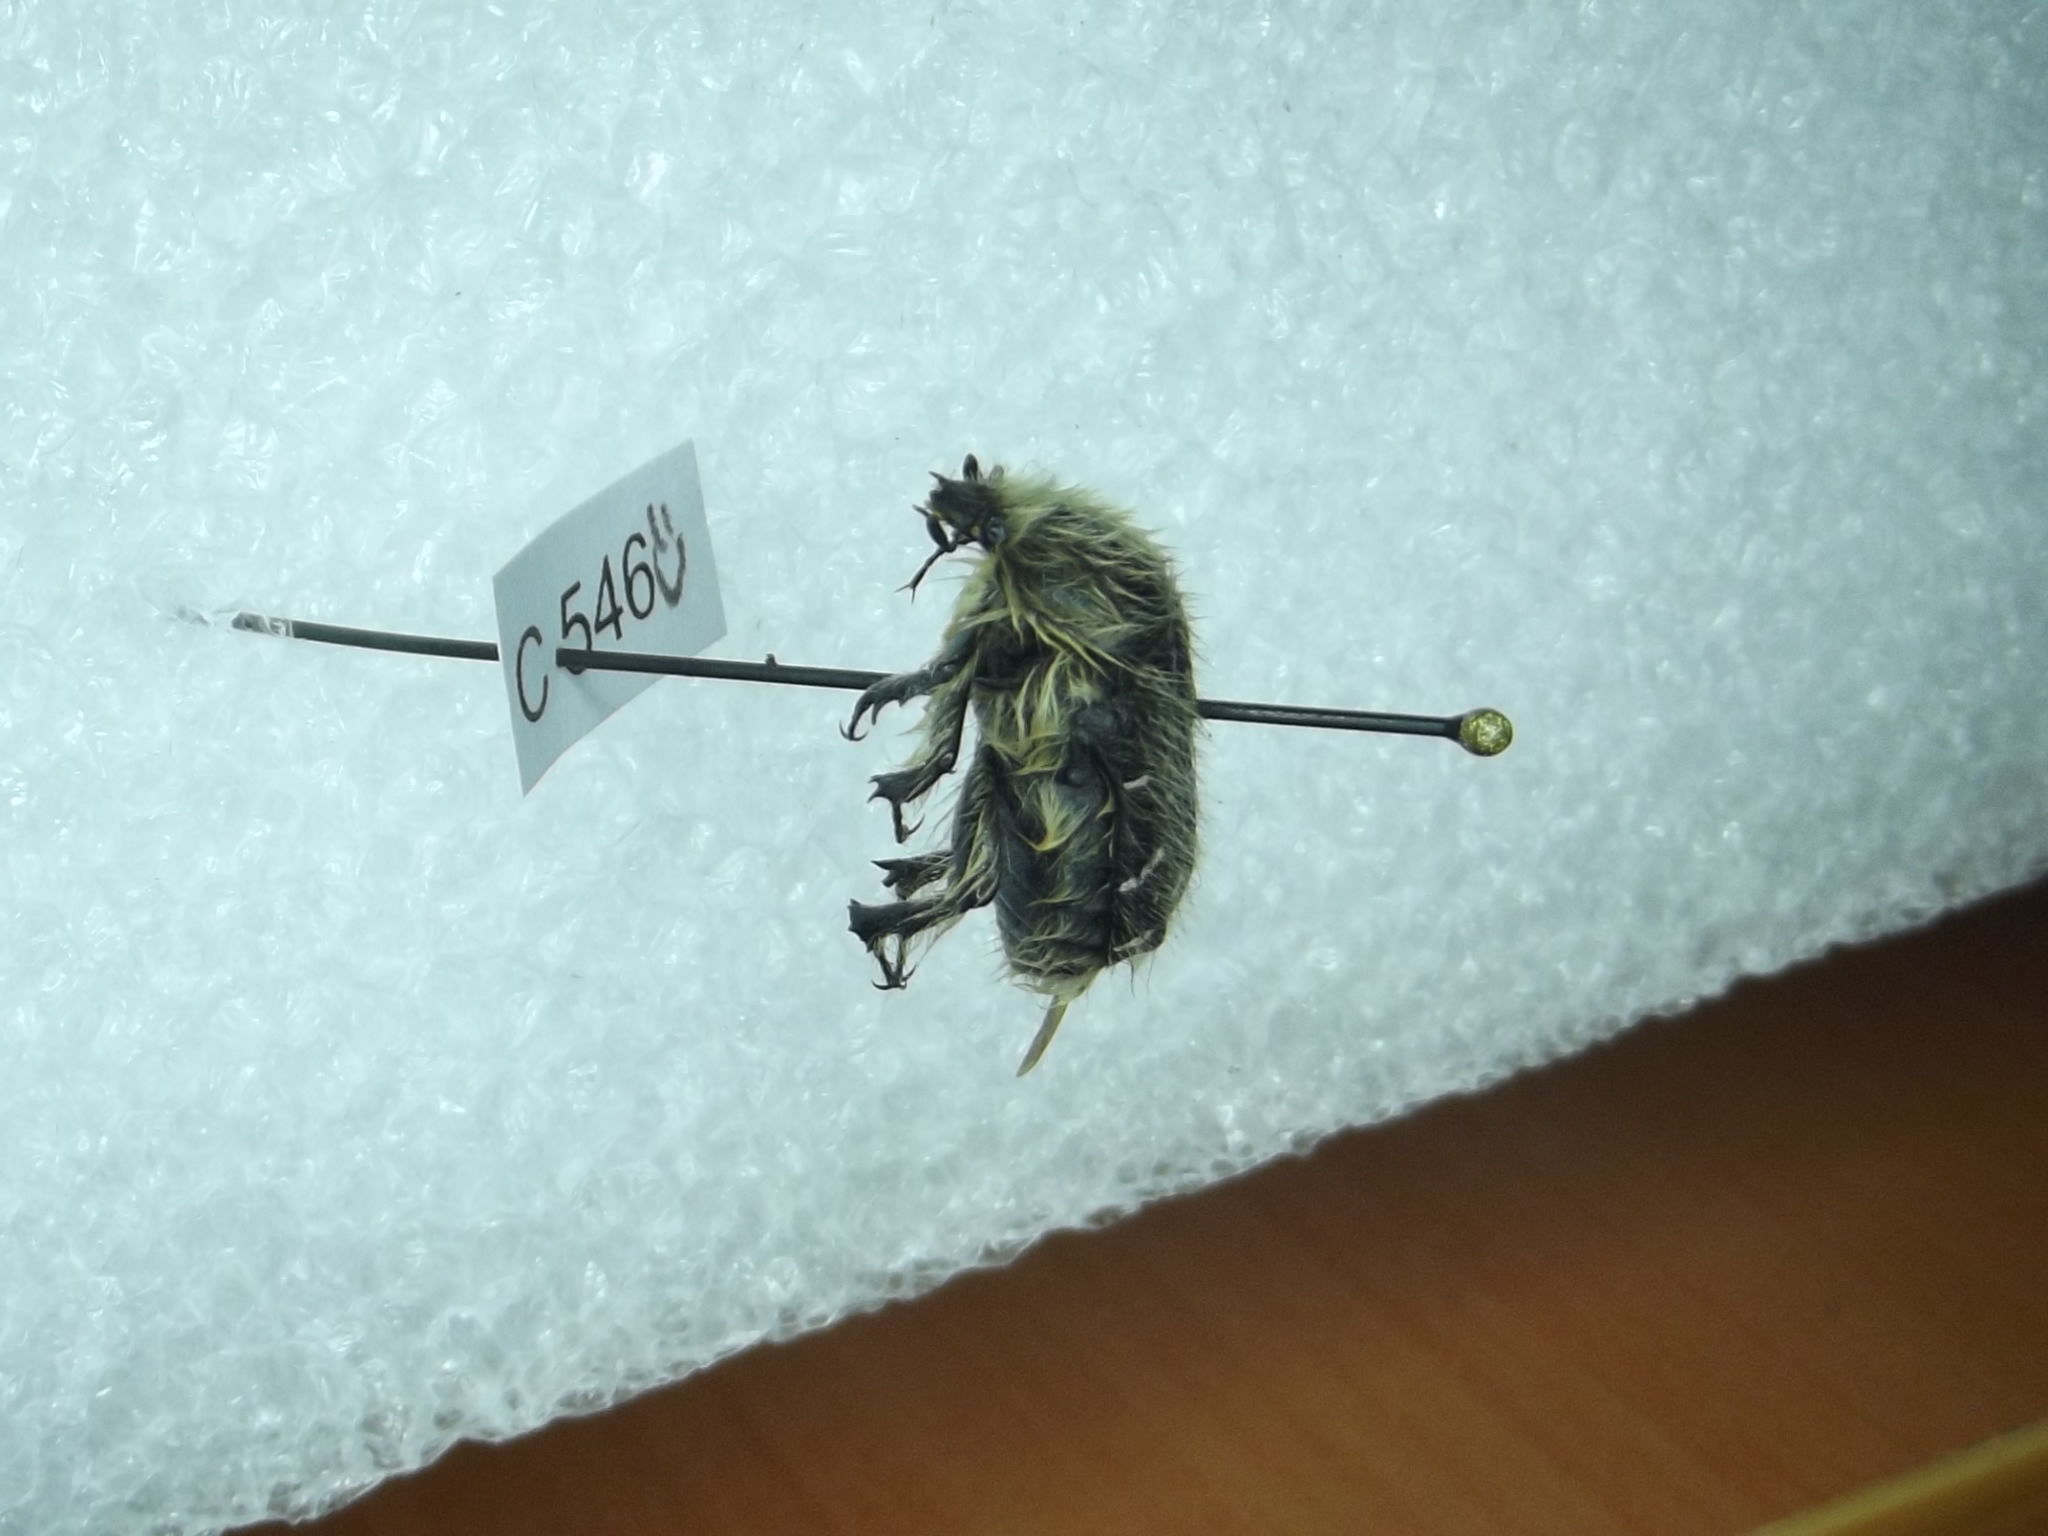Tropinota_senicula: (816, 445, 1250, 1042)
